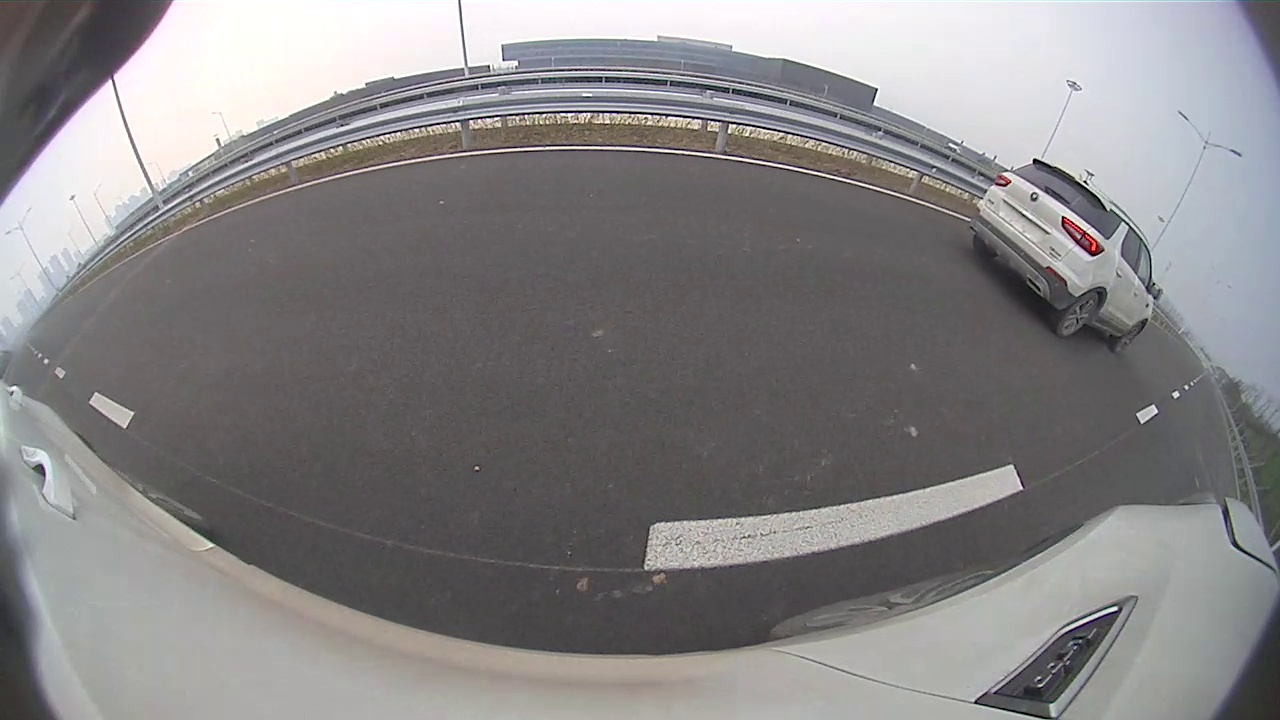car: (971, 156, 1160, 351)
rear: (1059, 294, 1102, 340)
